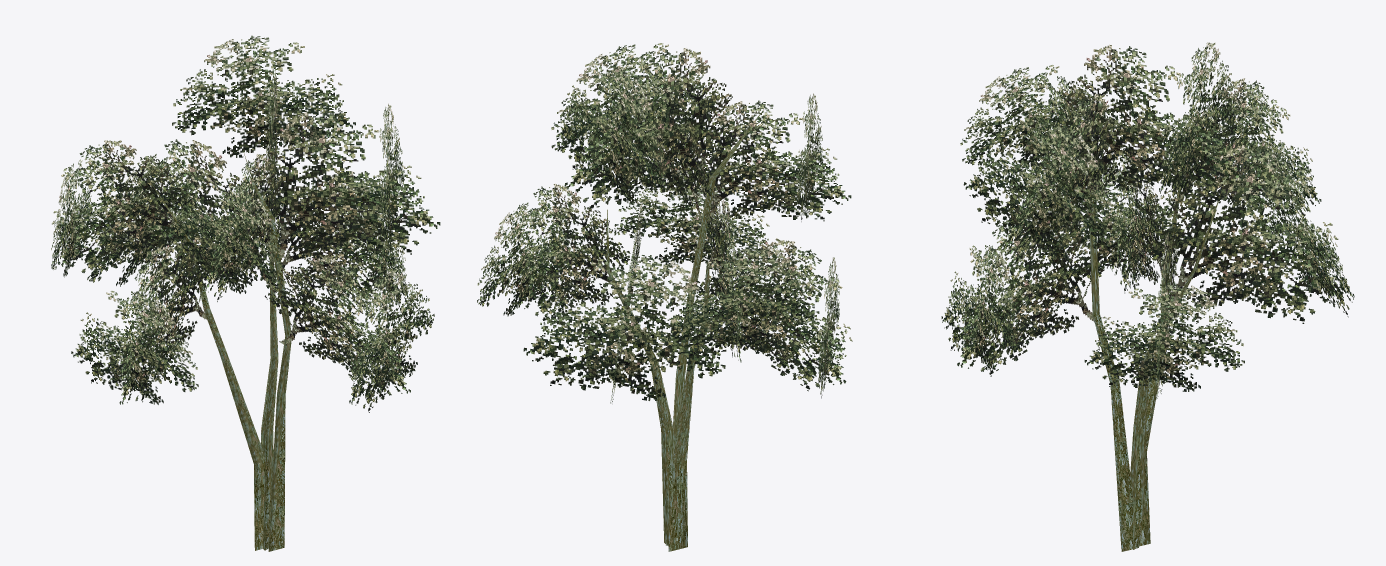
The model's file is stage-lake-p2-290.glb.
3 views of the same model, side by side, from view 1: azimuth 30°, elevation 25°; view 2: azimuth 150°, elevation 25°; view 3: azimuth 270°, elevation 25° (orthographic). The views are drawn at different scales.
Bounding box in the file's own units: 25.96 × 32.06 × 25.56.
Materials: 3 (3 with a texture image).
